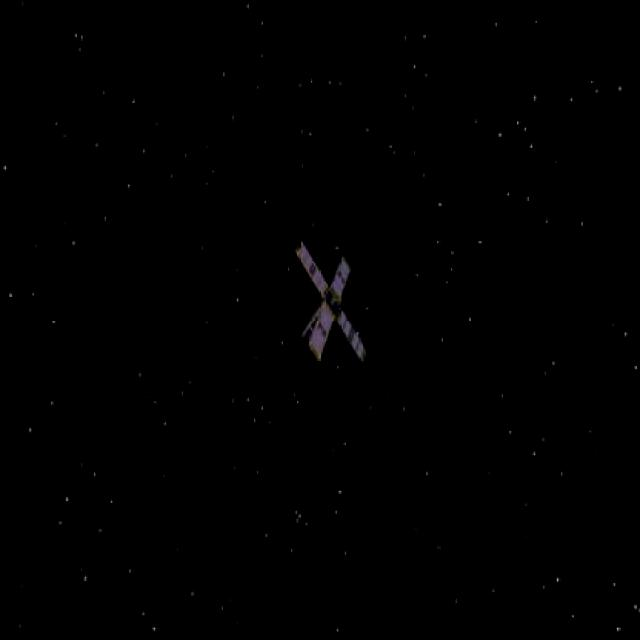medium_debris: (275, 237, 377, 375)
